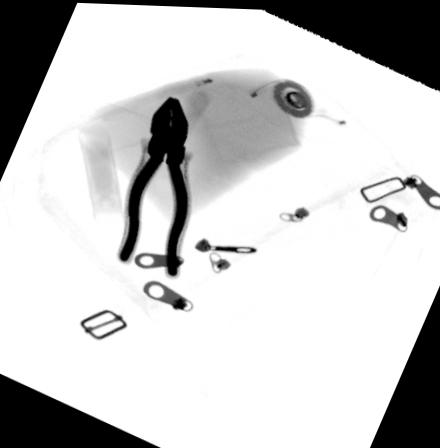Pliers: (114, 93, 195, 278)
